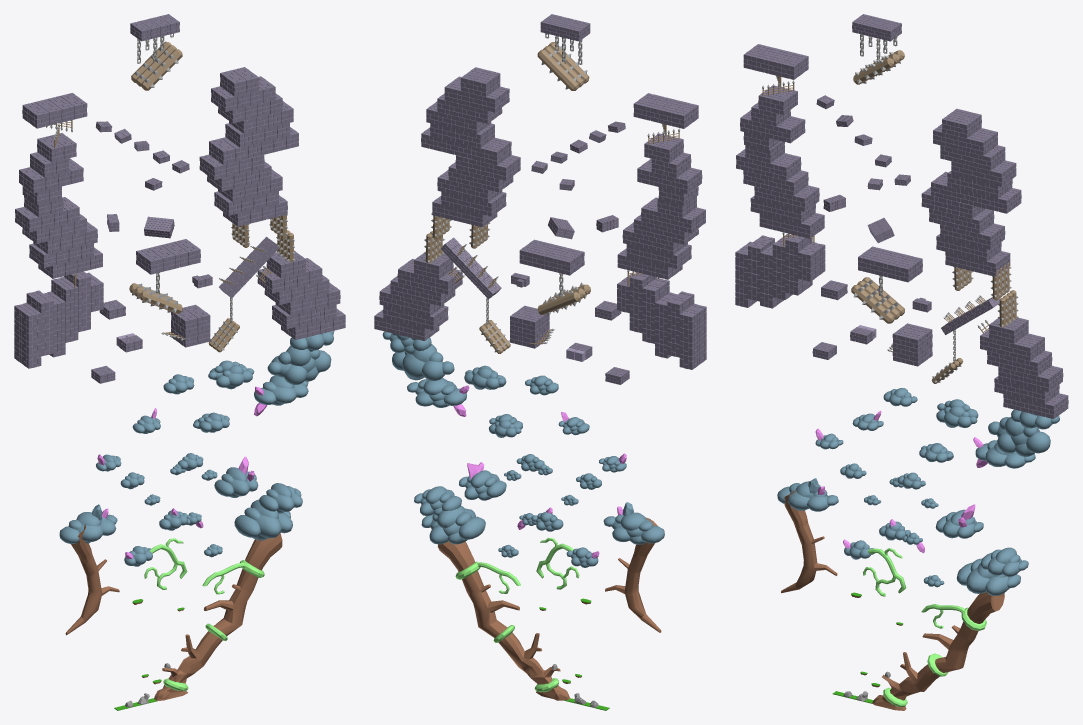
The model's file is Level1.fbx.
The picture shows the model from 3 angles, left to right: view 1: azimuth 30°, elevation 25°; view 2: azimuth 150°, elevation 25°; view 3: azimuth 330°, elevation 25°; orthographic projection.
Parts seen in each view (by area): view 1: world1; view 2: world1; view 3: world1.
Part boxes in pixels (box(x1,y1,x2,y2)): world1: box(14, 14, 345, 710); world1: box(374, 14, 706, 710); world1: box(735, 14, 1068, 710).
Bounding box in the file's own units: 51105 × 104132 × 8278.
